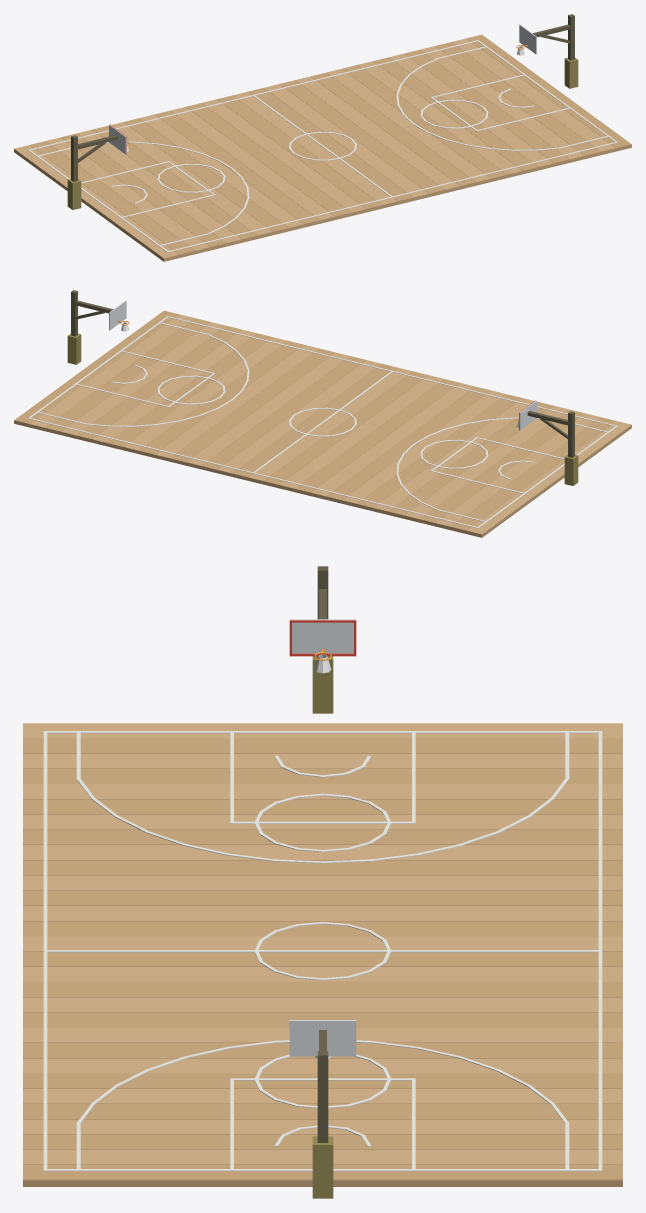
The model's file is BasketballCourt.fbx.
3 renders of one model, top to bottom at view 1: azimuth 30°, elevation 25°; view 2: azimuth 150°, elevation 25°; view 3: azimuth 270°, elevation 25°, orthographic. The views are drawn at different scales.
Visible parts, largest first — view 1: FloorBase, Plank.018, Plank.010, Plank.012, Plank.011, Plank.017, Plank.019, Plank.013, Plank.020, Plank.009, Plank.028, Plank.016 (+25 smaller); view 2: FloorBase, Plank.018, Plank.010, Plank.012, Plank.011, Plank.017, Plank.019, Plank.013, Plank.020, Plank.009, Plank.028, Plank.016 (+25 smaller); view 3: FloorBase, Plank.010, Plank.012, Plank.017, Plank.018, Plank.009, Plank.001, Plank.013, Plank.004, Plank.005, Plank.025, Plank.022 (+29 smaller).
Part boxes in pixels (x1,y1,x2,y2): FloorBase: (14,38,631,261); Plank.018: (295,76,459,189); Plank.010: (170,107,334,220); Plank.012: (202,99,366,212); Plank.011: (186,103,350,216); Plank.017: (280,80,443,193); Plank.019: (311,72,475,185); Plank.013: (217,95,381,208); Plank.020: (326,69,490,182); Plank.009: (155,110,319,224); Plank.028: (451,38,615,151); Plank.016: (264,84,428,197); FloorBase: (14,314,631,537); Plank.018: (186,352,350,465); Plank.010: (311,383,475,496); Plank.012: (279,375,443,488); Plank.011: (295,379,459,492); Plank.017: (201,356,365,469); Plank.019: (170,348,334,461); Plank.013: (264,371,428,484); Plank.020: (155,345,319,458); Plank.009: (326,386,490,500); Plank.028: (30,314,194,427); Plank.016: (217,360,381,473); FloorBase: (23,738,622,1186); Plank.010: (23,875,622,890); Plank.012: (23,906,622,921); Plank.017: (23,982,622,997); Plank.018: (23,997,622,1012); Plank.009: (23,860,622,875); Plank.001: (23,738,622,753); Plank.013: (23,921,622,936); Plank.004: (23,784,622,799); Plank.005: (23,799,622,814); Plank.025: (23,1104,622,1119); Plank.022: (23,1058,622,1073).
Size of the model in its own units: 31.55 by 4.4 by 16.2.
